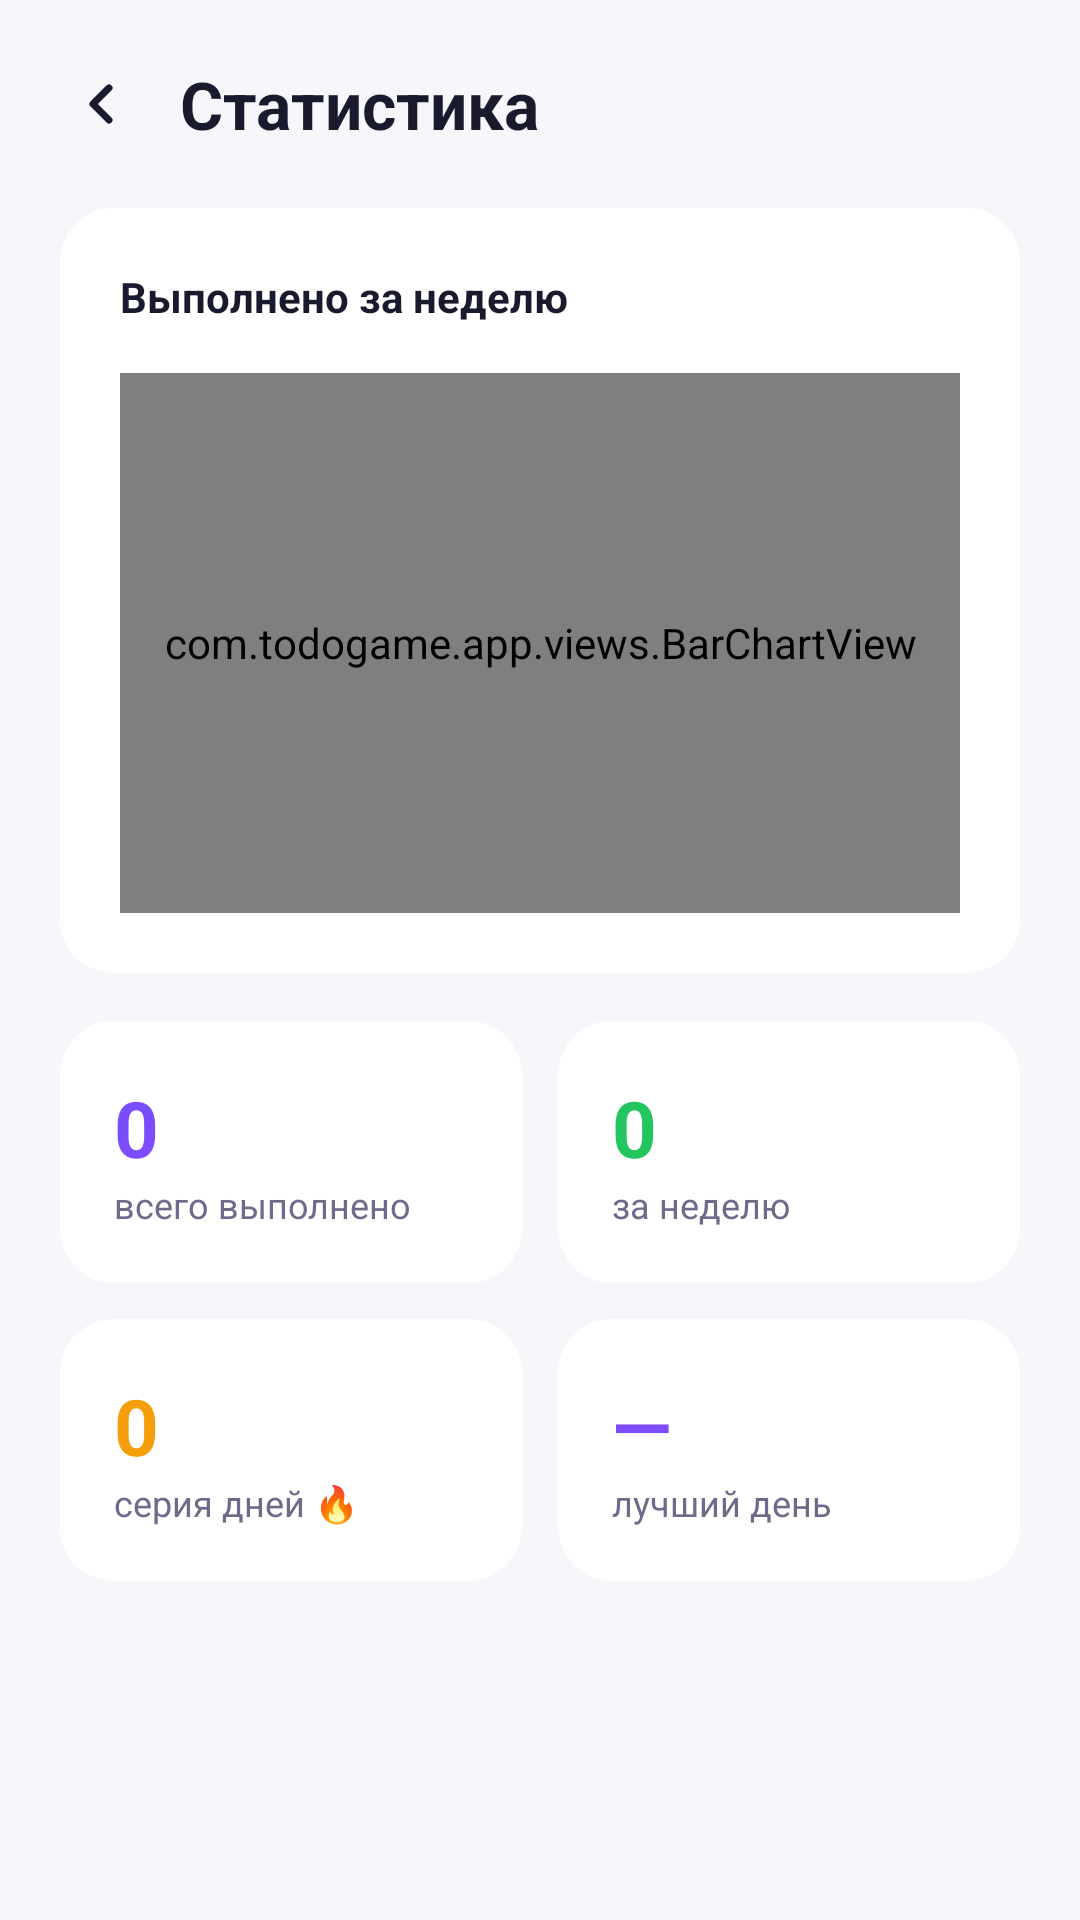

Where icons sit on this 1080x1920 app screen, as rect(x1, y1, x2, y2):
back: rect(89, 84, 113, 124)
